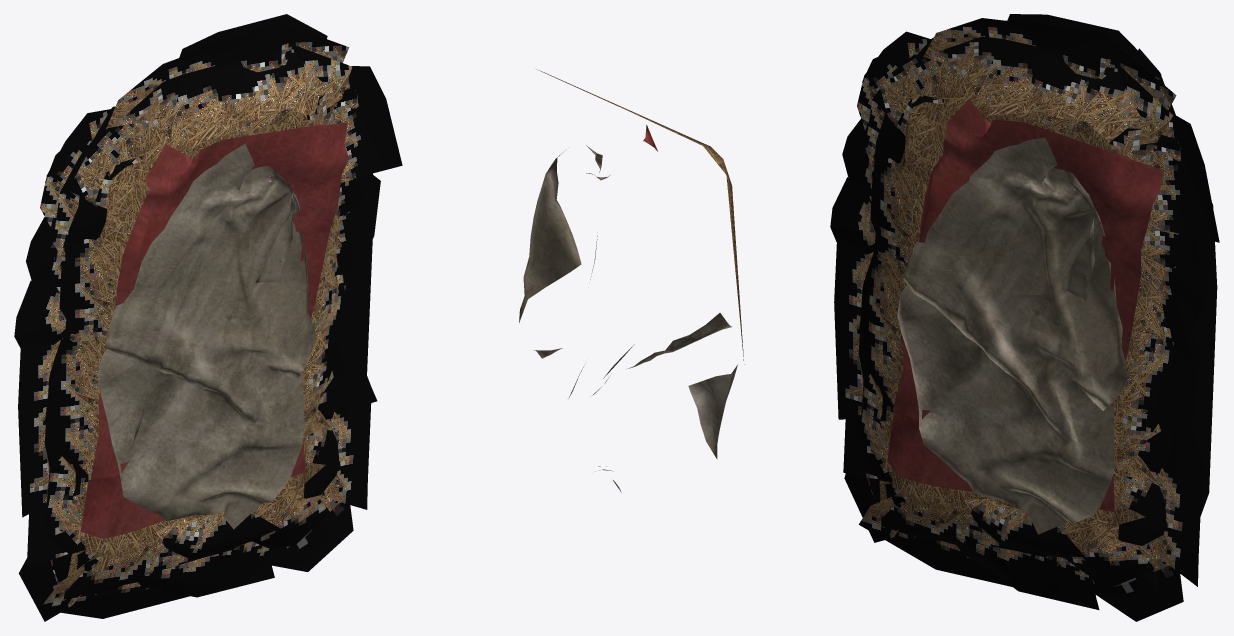
Rendered from GEN_PRO_Bed_Poors_01D_LOD0-transformed.glb.
The picture shows the model from 3 angles, left to right: view 1: azimuth 30°, elevation 25°; view 2: azimuth 150°, elevation 25°; view 3: azimuth 330°, elevation 25°; orthographic projection. The views are drawn at different scales.
Parts seen in each view (by area): view 1: GEN_PRO_Bed_Poors_01D_LOD0; view 2: GEN_PRO_Bed_Poors_01D_LOD0; view 3: GEN_PRO_Bed_Poors_01D_LOD0.
Boxes of the visible parts, x1,y1,x2,y2 form: GEN_PRO_Bed_Poors_01D_LOD0: (14,14,402,621); GEN_PRO_Bed_Poors_01D_LOD0: (519,69,744,492); GEN_PRO_Bed_Poors_01D_LOD0: (830,14,1219,621).
Size of the model in its own units: 0.0202 by 0.0286 by 0.00213.
Materials: 3 (3 with a texture image).
